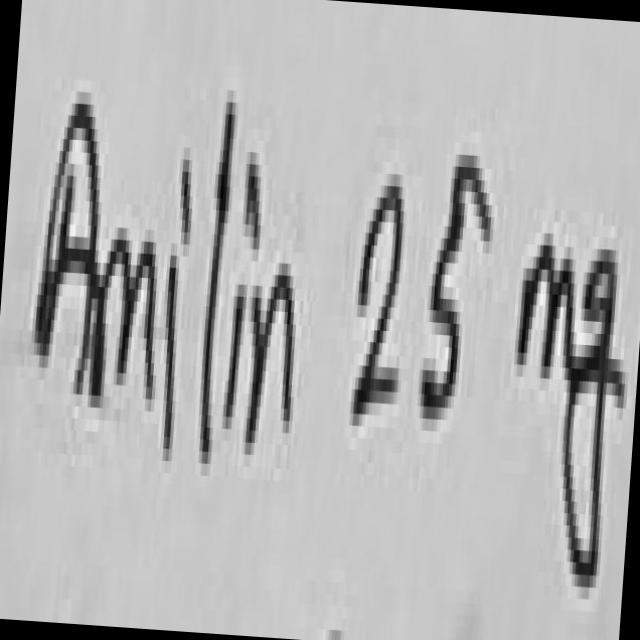2: (353, 186, 404, 408)
5: (423, 155, 493, 418)
A: (34, 103, 100, 388)
g: (565, 249, 627, 586)
i: (163, 255, 178, 461), (225, 284, 246, 423), (245, 164, 261, 249), (181, 159, 192, 238)
l: (201, 102, 234, 457)
m: (92, 239, 157, 416), (521, 245, 574, 372)
n: (247, 275, 294, 448)
